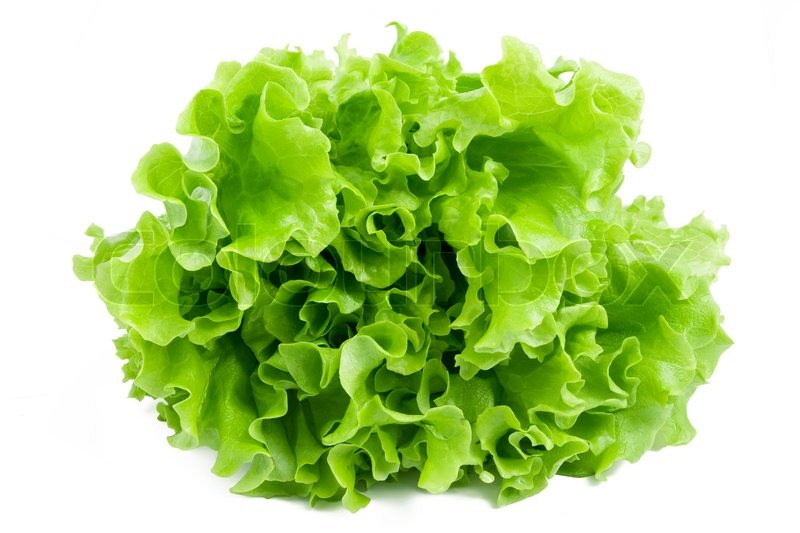chopped lettuce: (119, 51, 696, 500)
